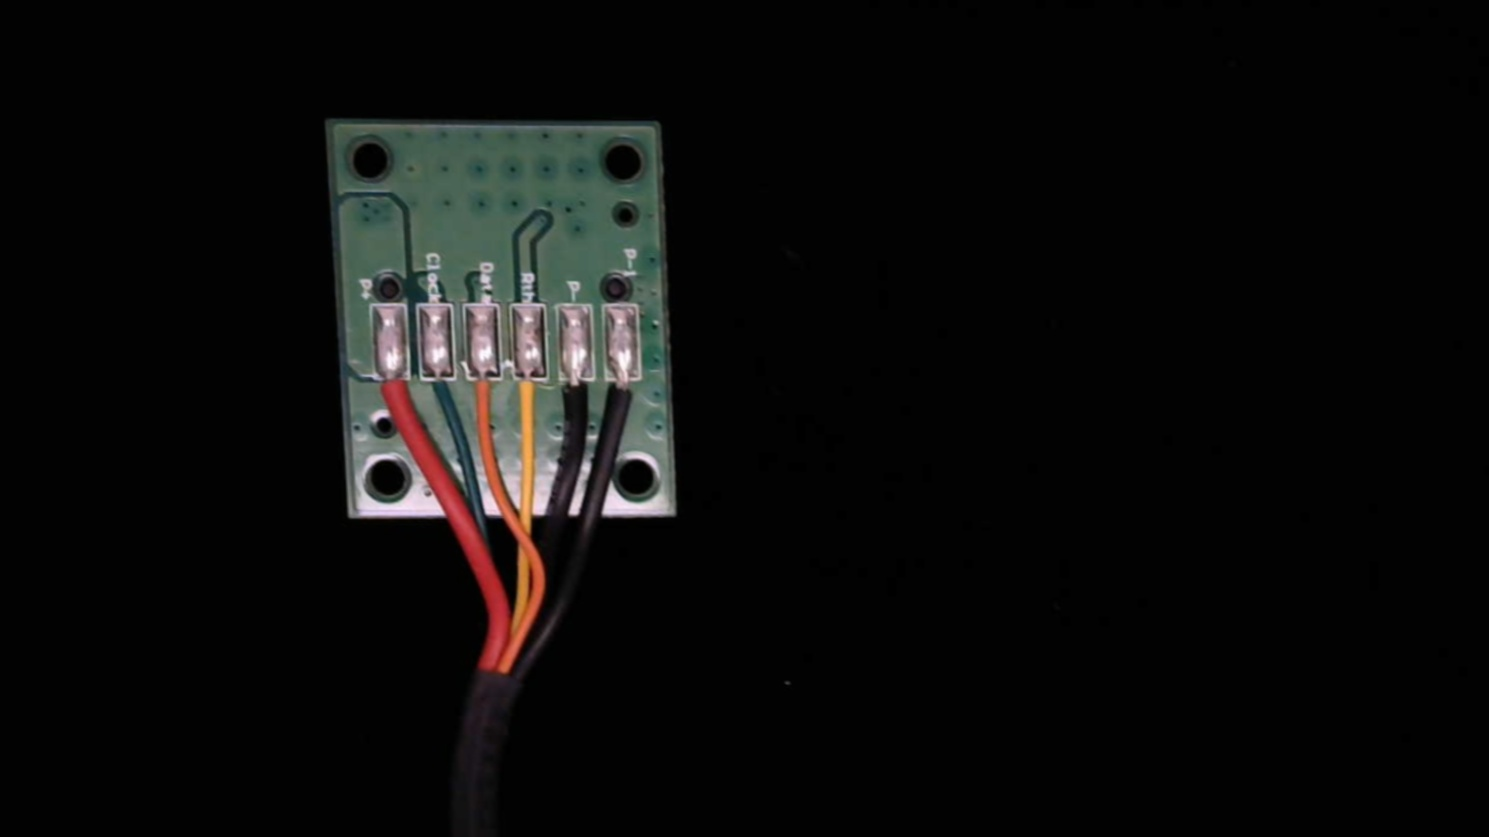Black: (552, 358, 600, 447)
Black1: (602, 358, 643, 430)
Green: (417, 359, 464, 433)
Orange: (463, 360, 504, 432)
Red: (373, 359, 416, 433)
Yellow: (508, 360, 551, 432)
